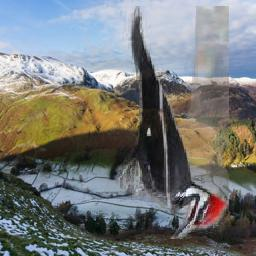Woodpecker: (117, 7, 230, 240)
